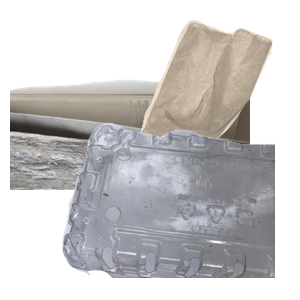glass: (74, 120, 244, 300)
paper: (10, 77, 250, 257)
plastic: (60, 120, 300, 300)
trash: (132, 17, 300, 177)
